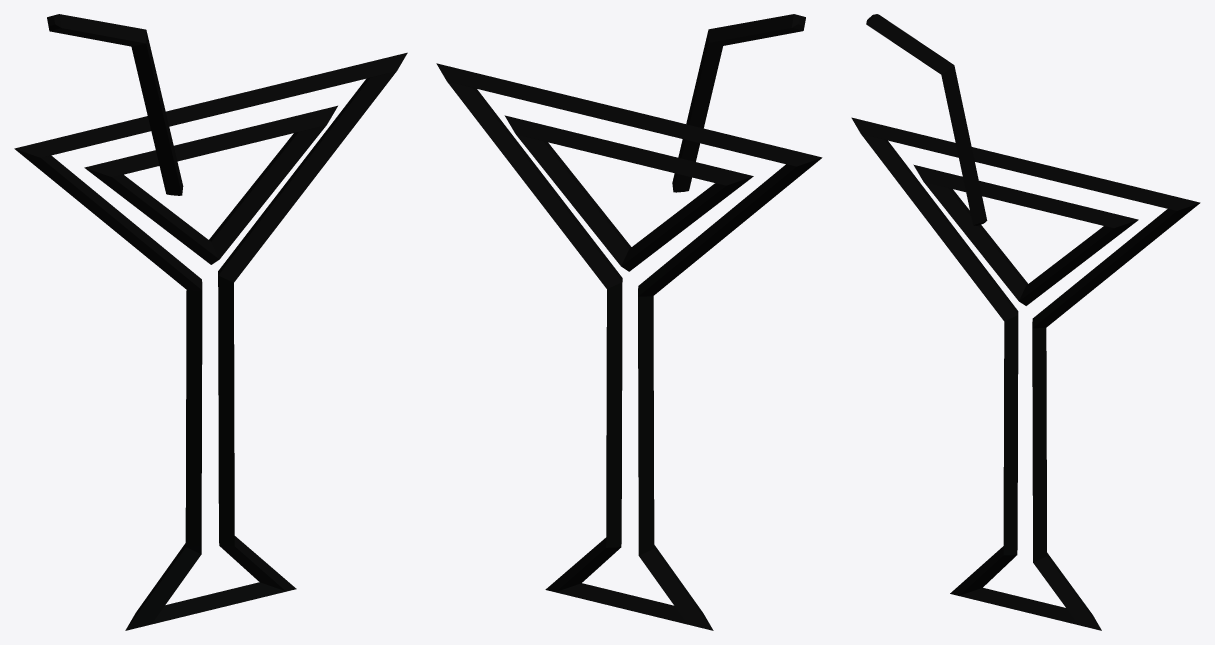
File: SM_Prop_Casino_Neon_02.fbx
3 views of the same model, side by side, from view 1: azimuth 30°, elevation 25°; view 2: azimuth 150°, elevation 25°; view 3: azimuth 330°, elevation 25° (orthographic). The views are drawn at different scales.
Visible parts, largest first — view 1: SM_Prop_Casino_Neon_02; view 2: SM_Prop_Casino_Neon_02; view 3: SM_Prop_Casino_Neon_02.
Boxes of the visible parts, left/top/right/bottom form: SM_Prop_Casino_Neon_02: left=14, top=14, right=407, bottom=630; SM_Prop_Casino_Neon_02: left=436, top=14, right=822, bottom=630; SM_Prop_Casino_Neon_02: left=851, top=14, right=1200, bottom=630.
Size of the model in its own units: 67.6 by 105 by 7.05.
